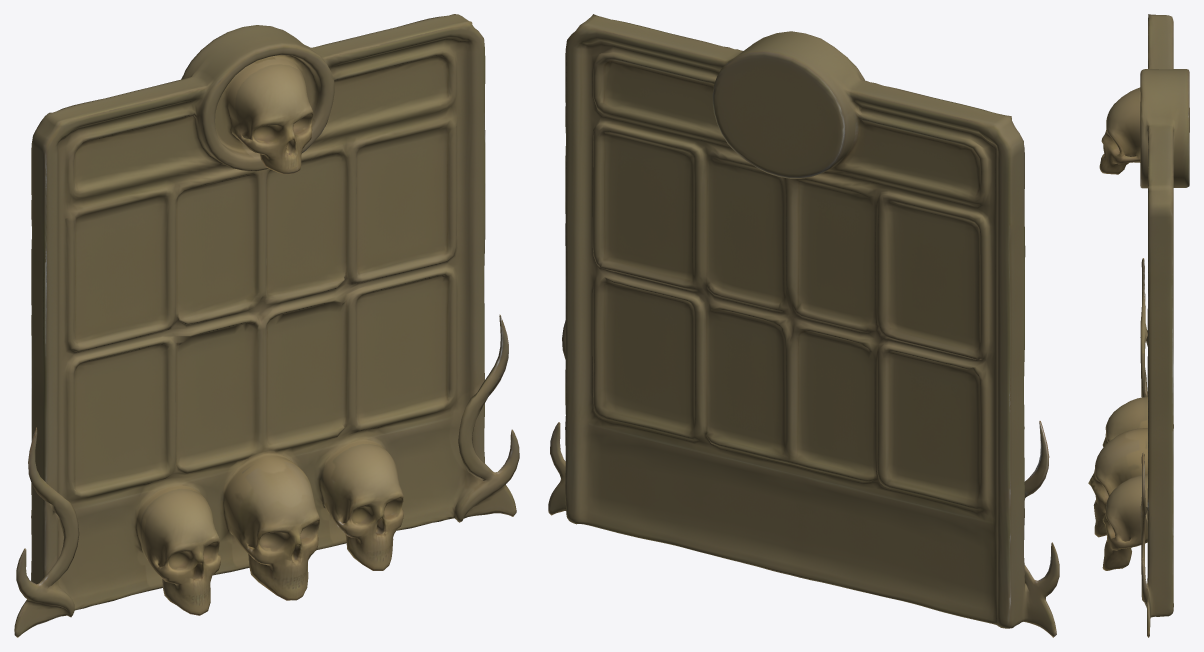
The model's file is base_basic_pbr.fbx.
The picture shows the model from 3 angles, left to right: view 1: azimuth 30°, elevation 25°; view 2: azimuth 150°, elevation 25°; view 3: azimuth 270°, elevation 25°; orthographic projection. The views are drawn at different scales.
Parts seen in each view (by area): view 1: model; view 2: model; view 3: model.
Boxes of the visible parts, x1,y1,x2,y2 form: model: [14, 14, 519, 637]; model: [548, 14, 1059, 637]; model: [1088, 14, 1189, 637].
Bounding box in the file's own units: 183 × 186 × 37.42.
1 material, 1 textured.
